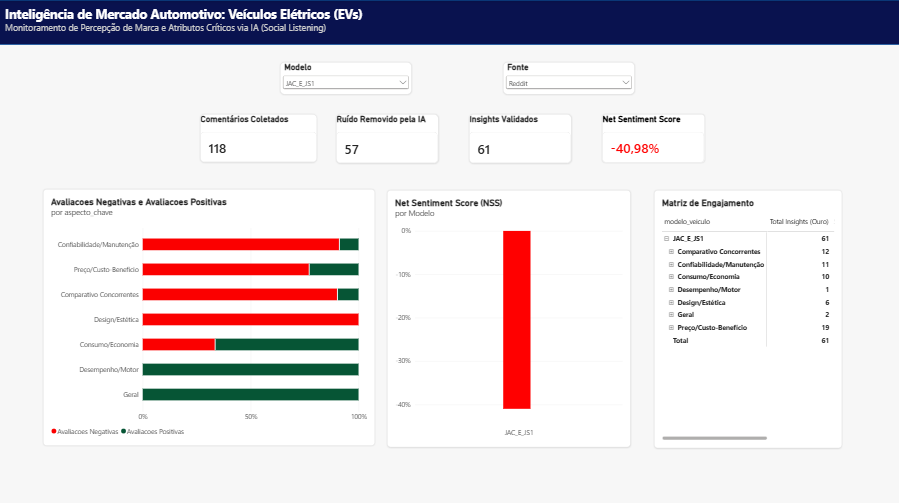

The page's visual inventory and layout, read from the dashboard file:
{"tool":"powerbi","page":{"name":"Página 1","canvas":[1920,1080],"ordinal":0},"visuals":[{"type":"shape","box":[0,0,1920,95],"z":0},{"type":"slicer","fields":{"Values":["dModelo.Modelo"]},"box":[25,111,280,68.6],"z":1000},{"type":"slicer","fields":{"Values":["dFonte.Fonte"]},"box":[376,111,280,68.6],"z":2000},{"type":"cardVisual","title":"Comentários Coletados","fields":{"Data":["_Medidas.Total Volume Bruto"]},"box":[48.9,282.8,249.4,103.3],"z":2001},{"type":"cardVisual","title":"Ruído Removido pela IA","fields":{"Data":["_Medidas.Ruido Descartado"]},"box":[355,282.8,217.5,105],"z":2002},{"type":"cardVisual","title":"Insights Validados","fields":{"Data":["_Medidas.Total Insights (Ouro)"]},"box":[633.5,282.8,217.5,105],"z":2003},{"type":"cardVisual","title":"Net Sentiment Score","fields":{"Data":["_Medidas.Net Sentiment Score (NSS)"]},"box":[916.3,282.8,219,104.2],"z":2004},{"type":"donutChart","fields":{"Y":["_Medidas.Ruido Descartado","_Medidas.Total Insights (Ouro)"]},"box":[48.9,433.7,496.4,340.2],"z":2005},{"type":"hundredPercentStackedBarChart","fields":{"Category":["fAvaliacoes.aspecto_chave"],"Y":["_Medidas.Avaliacoes Negativas","_Medidas.Avaliacoes Positivas"]},"box":[608,433.7,705.5,370.4],"z":2006},{"type":"pivotTable","fields":{"Rows":["fAvaliacoes.modelo_veiculo","fAvaliacoes.aspecto_chave","fAvaliacoes.resumo_insight"],"Values":["Sum(fAvaliacoes.likes)"]},"box":[95.7,803.6,297.6,233.9],"z":2008},{"type":"clusteredColumnChart","fields":{"Category":["dModelo.Modelo"],"Y":["_Medidas.Net Sentiment Score (NSS)"]},"box":[1362.8,433.7,518.7,646.3],"z":2009}]}

Visuals, with their boxes in screenshot pixels (x1, y1, x2, y2), scaled from the page's 1920x1080 canvas onto the 899x503 screenshot:
shape: <region>0, 0, 898, 44</region>
slicer - dModelo.Modelo: <region>12, 52, 143, 84</region>
slicer - dFonte.Fonte: <region>176, 52, 307, 84</region>
"Comentários Coletados" cardVisual: <region>23, 132, 140, 180</region>
"Ruído Removido pela IA" cardVisual: <region>166, 132, 268, 181</region>
"Insights Validados" cardVisual: <region>297, 132, 398, 181</region>
"Net Sentiment Score" cardVisual: <region>429, 132, 532, 180</region>
donutChart - _Medidas.Ruido Descartado x _Medidas.Total Insights (Ouro): <region>23, 202, 255, 360</region>
hundredPercentStackedBarChart - fAvaliacoes.aspecto_chave x _Medidas.Avaliacoes Negativas: <region>285, 202, 615, 375</region>
pivotTable - fAvaliacoes.modelo_veiculo x fAvaliacoes.aspecto_chave: <region>45, 374, 184, 483</region>
clusteredColumnChart - dModelo.Modelo x _Medidas.Net Sentiment Score (NSS): <region>638, 202, 881, 502</region>
